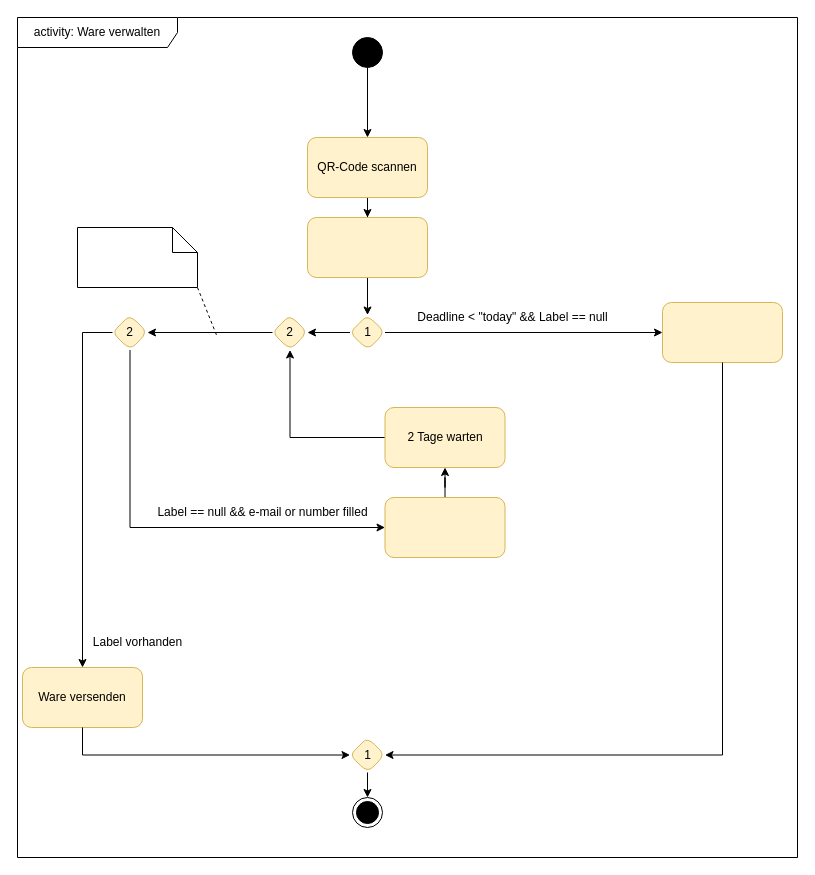
This 815x875 diagram has some shape labels left out. Here are the shapes that lost their labels. From the top down, the centre of each, then its label:
the point at 137,257: while (Deadline > "today")
the point at 367,247: Attribute auslesen
the point at 722,332: Ware freigeben
the point at 444,527: Erinnerung senden
